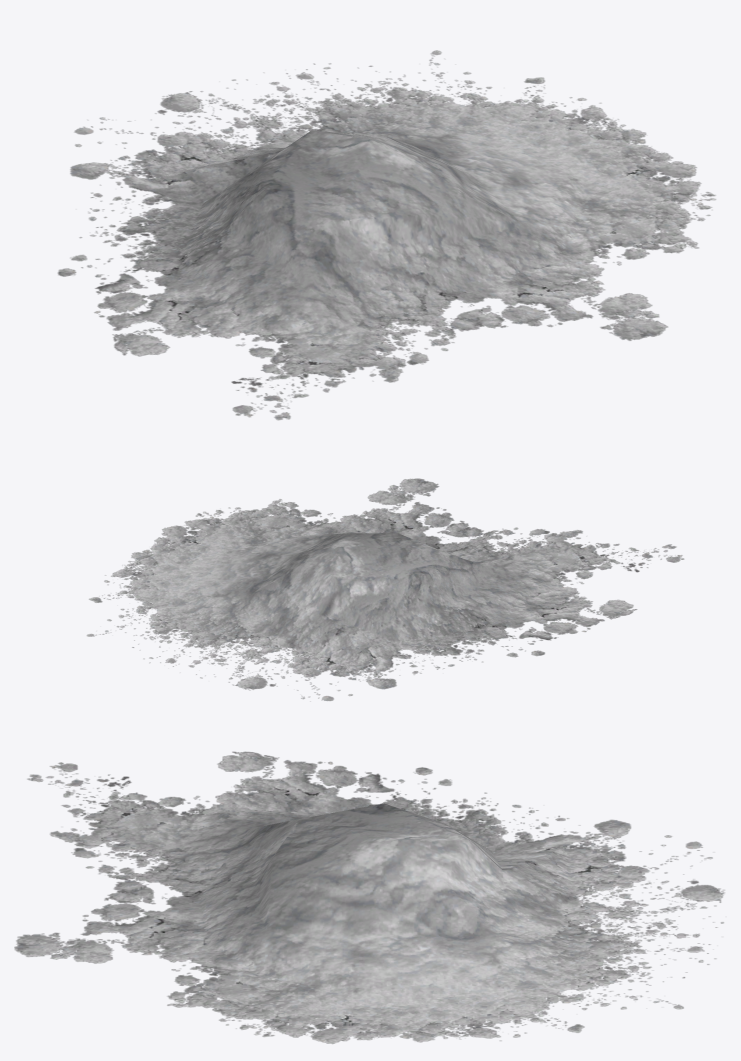
The model's file is cocaine_pile.glb.
3 views of the same model, one above another, from view 1: azimuth 30°, elevation 25°; view 2: azimuth 150°, elevation 25°; view 3: azimuth 270°, elevation 25° (orthographic). The views are drawn at different scales.
Parts seen in each view (by area): view 1: Coke Powder; view 2: Coke Powder; view 3: Coke Powder.
Part boxes in pixels (x1,y1,x2,y2): Coke Powder: (58, 50, 715, 420); Coke Powder: (87, 478, 684, 700); Coke Powder: (14, 751, 724, 1043).
Bounding box in the file's own units: 0.2773 × 0.0293 × 0.2773.
Materials: 1 (1 with a texture image).
